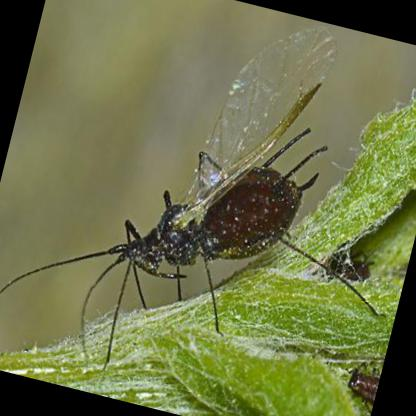uroleucon compositae: (0, 26, 336, 303)
